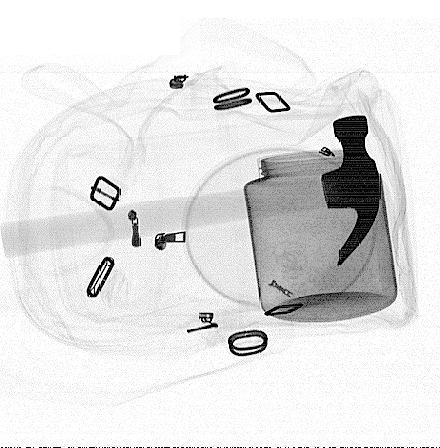Hammer: (0, 115, 381, 266)
